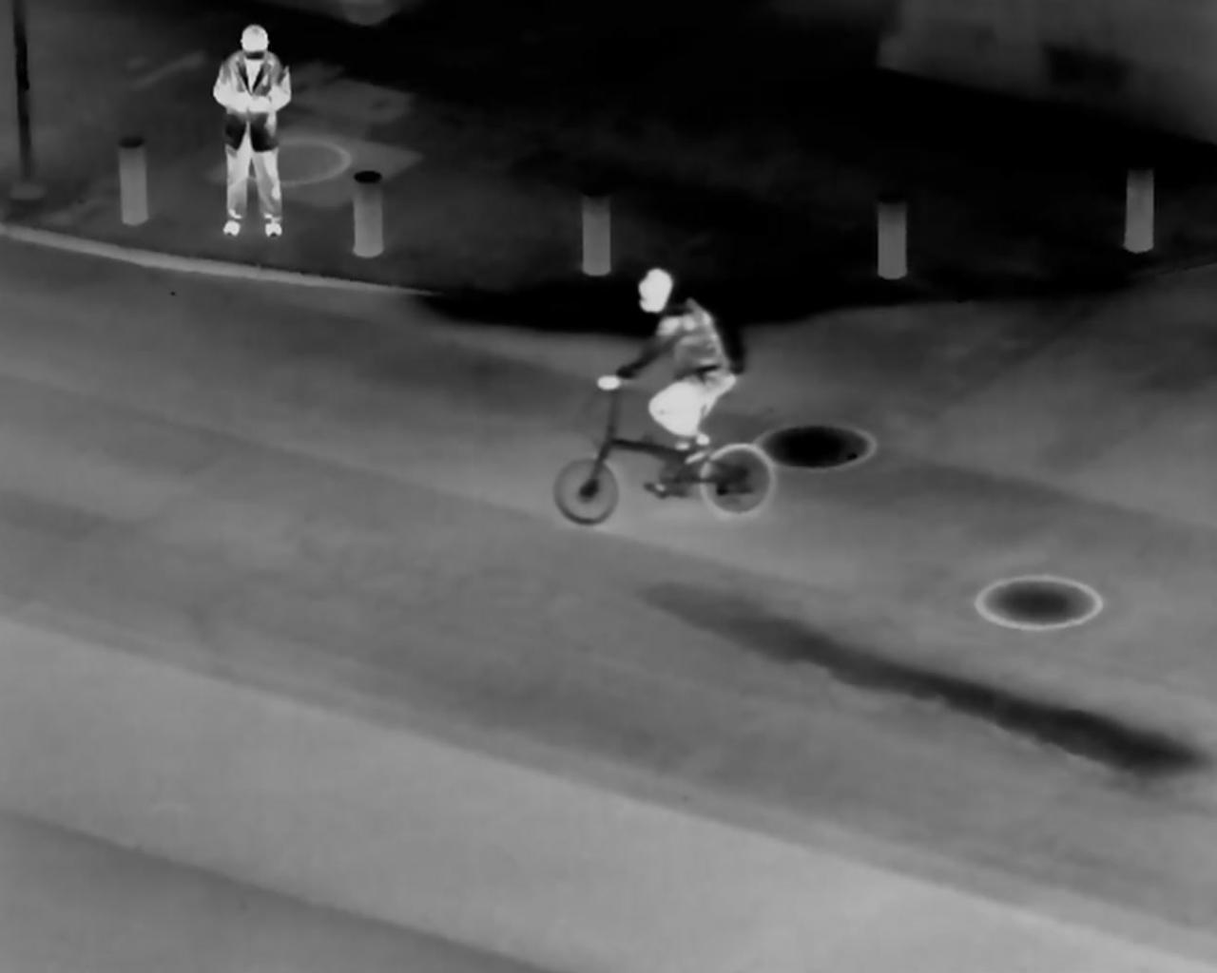person: (600, 257, 742, 483), (201, 23, 299, 238)
